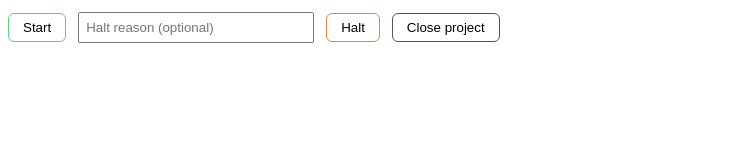
ProjectControls › surfaces a start refusal (plan approval required) as an outcome
This screenshot has width=735, height=160.
Click the button "Start" at {"x": 37, "y": 28}, box [8, 13, 66, 42]
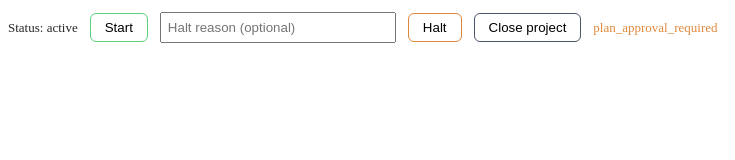
Expected: the message reads "plan_approval_required", [593, 20, 718, 34]
